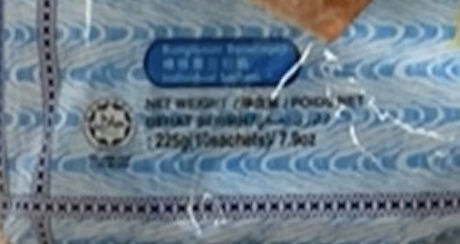halal: (93, 111, 123, 136)
